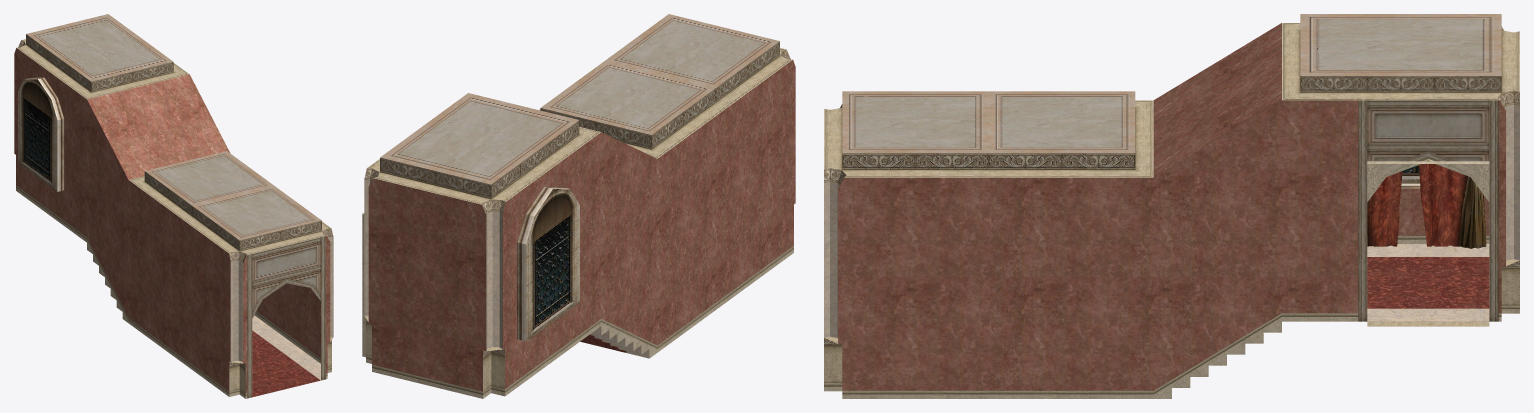
File: ply_nboo_house_lg_s01_fp1_r5_foyerleft_mesh_r5.fbx
3 views of the same model, side by side, from view 1: azimuth 30°, elevation 25°; view 2: azimuth 150°, elevation 25°; view 3: azimuth 270°, elevation 25° (orthographic). The views are drawn at different scales.
Parts seen in each view (by area): view 1: mesh_node; view 2: mesh_node; view 3: mesh_node.
Boxes of the visible parts, bbox=[...] form: mesh_node: bbox=[14, 14, 333, 398]; mesh_node: bbox=[362, 14, 795, 398]; mesh_node: bbox=[824, 14, 1519, 398].
Size of the model in its own units: 3.4 by 5.7 by 11.4.
